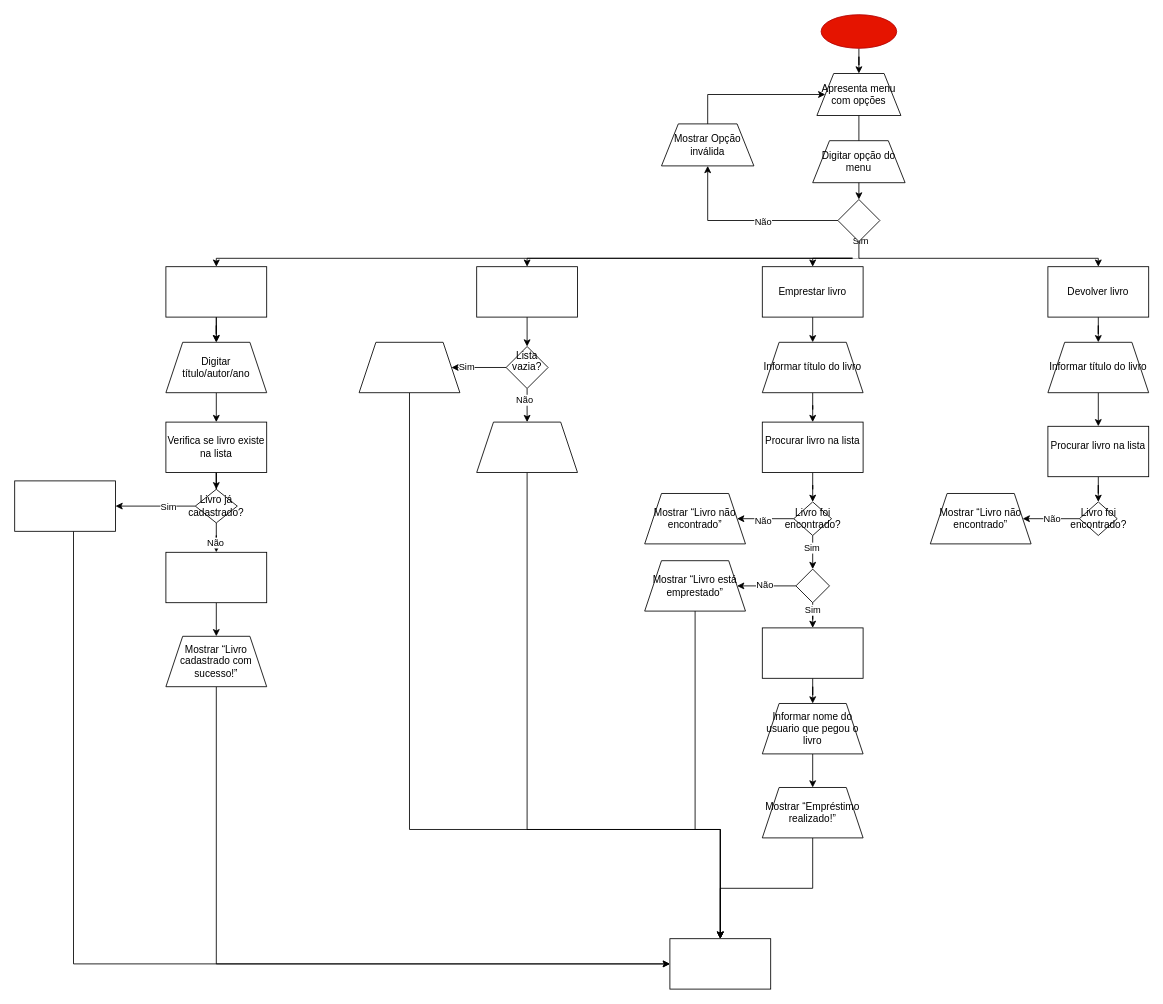
The diagram is 1163 pixels wide and 1004 high, and some of its shapes have lost their labels. The centre of each missing label's shape, as x and y in pixels:
Adicionar na lista: point (216, 577)
Atualiza livro para emprestado: point (812, 652)
Cadastrar livro: point (216, 291)
Está disponivel?: point (812, 585)
Inicio: point (858, 31)
Listar livros: point (527, 291)
Mostra lista de livros: point (527, 446)
Mostrar "Livro já cadastrado": point (65, 505)
Mostrar “Nenhum livro cadastrado”: point (409, 367)
Opção válida?: point (858, 220)
Retornar Menu: point (720, 963)
